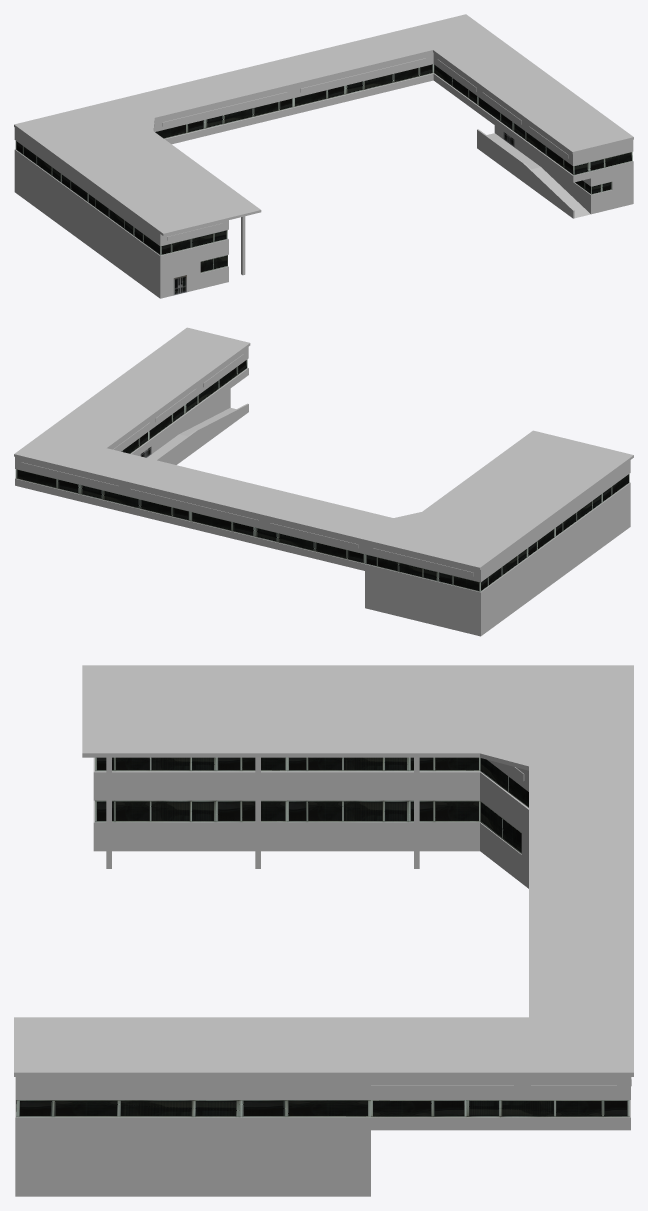
File: Building-G-02.fbx
3 views of the same model, one above another, from view 1: azimuth 30°, elevation 25°; view 2: azimuth 150°, elevation 25°; view 3: azimuth 270°, elevation 25° (orthographic). The views are drawn at different scales.
Parts seen in each view (by area): view 1: Building-G-02; view 2: Building-G-02; view 3: Building-G-02.
Part boxes in pixels (box(x1,y1,x2,y2)): Building-G-02: box(14, 14, 633, 298); Building-G-02: box(14, 327, 633, 636); Building-G-02: box(14, 665, 633, 1196).
Size of what is drawn, in the model's own units: 6570 by 933 by 4223.
